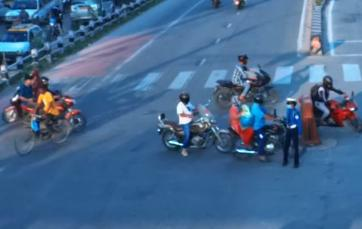bike: (157, 108, 236, 155)
